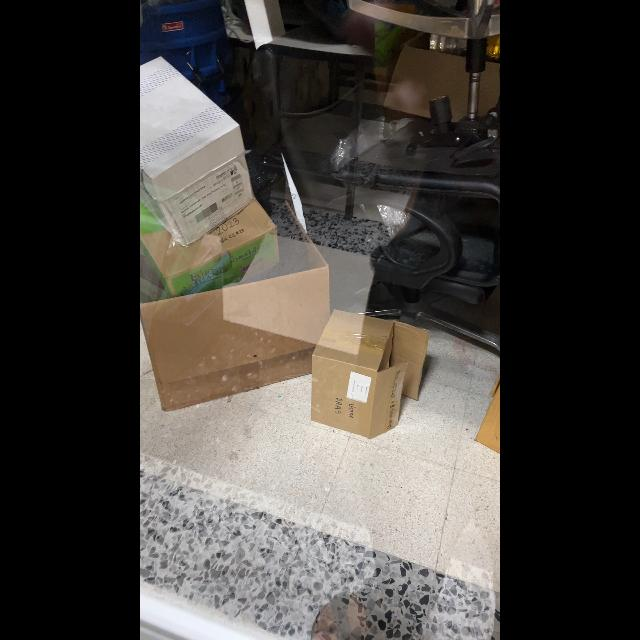cardboard_box: (144, 198, 332, 424), (140, 56, 288, 286), (306, 306, 438, 456)
